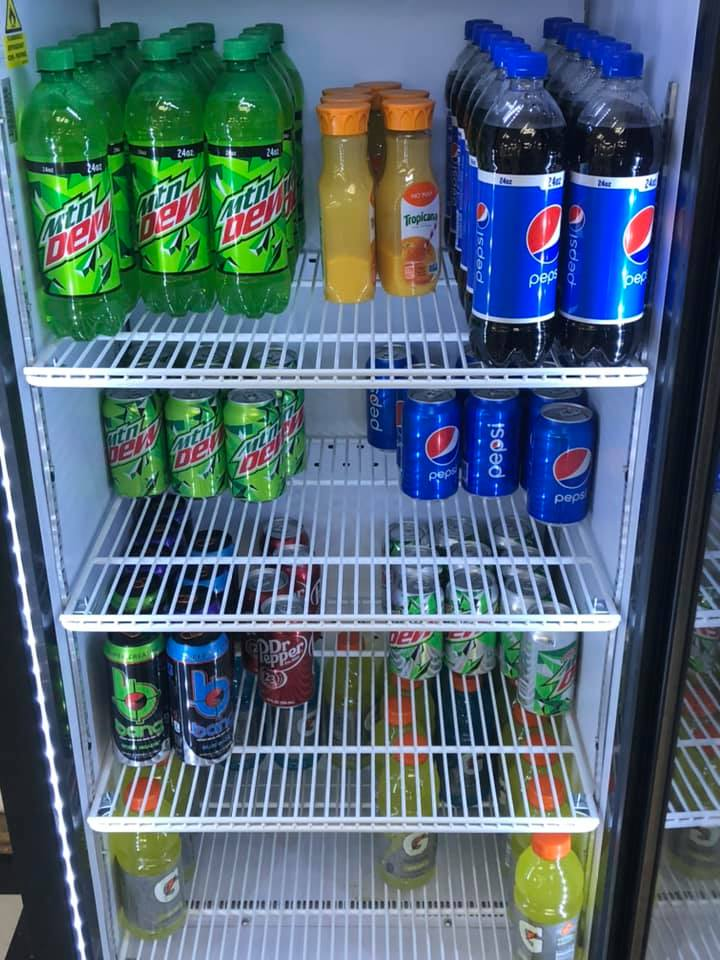bang: (110, 668, 162, 724), (186, 664, 232, 719)
drpepper: (258, 634, 305, 671)
gatorade: (153, 868, 183, 907), (518, 919, 547, 955), (403, 830, 430, 860)
mountaindew: (36, 189, 113, 270), (133, 180, 205, 239), (220, 180, 282, 248), (231, 423, 281, 476), (173, 424, 222, 469), (106, 425, 159, 461)
pepsi: (526, 204, 563, 265), (555, 446, 593, 493), (623, 209, 652, 265), (427, 428, 460, 468), (564, 205, 589, 232), (474, 203, 490, 228)
tropicana: (403, 208, 440, 229)
